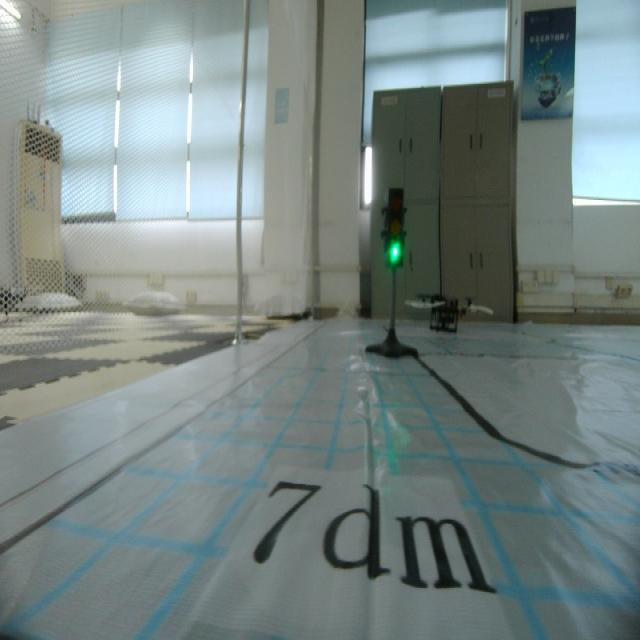green: (385, 190, 406, 272)
